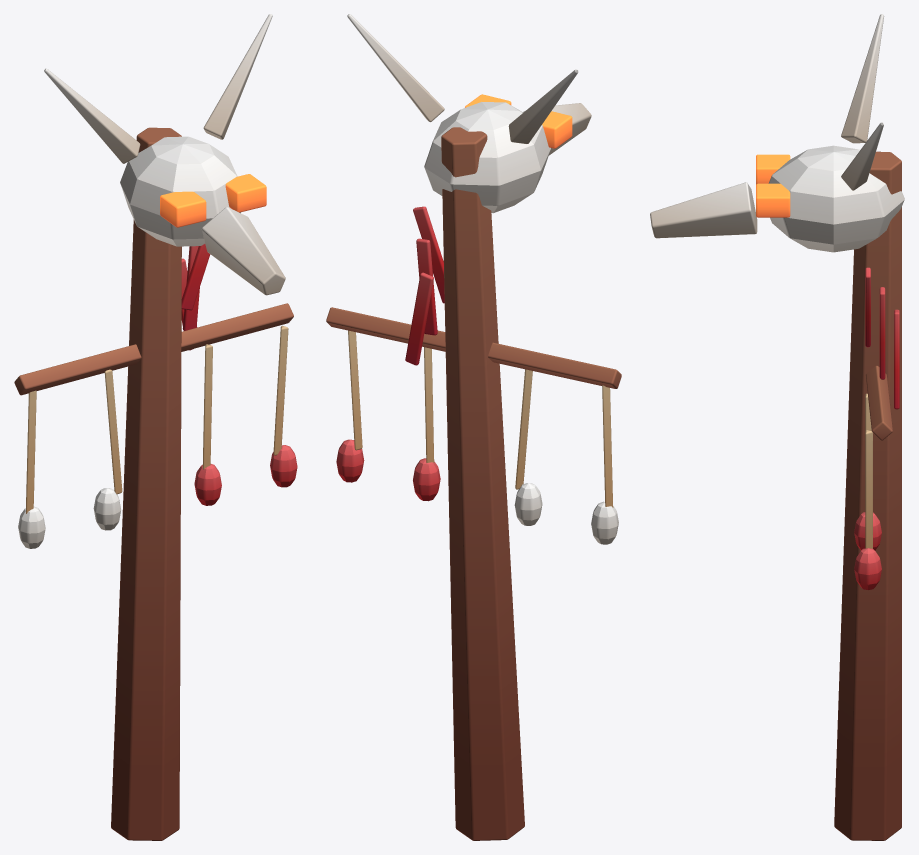
File: bone_totem.glb
The picture shows the model from 3 angles, left to right: view 1: azimuth 30°, elevation 25°; view 2: azimuth 150°, elevation 25°; view 3: azimuth 270°, elevation 25°; orthographic projection. The views are drawn at different scales.
Visible parts, largest first — view 1: bone_totem; view 2: bone_totem; view 3: bone_totem.
Boxes of the visible parts, box(x1,y1,x2,y2) form: bone_totem: box(14, 14, 297, 840); bone_totem: box(326, 14, 621, 840); bone_totem: box(650, 14, 904, 840).
Size of the model in its own units: 1.1 by 2.96 by 0.8862.
2 materials, 2 textured.
